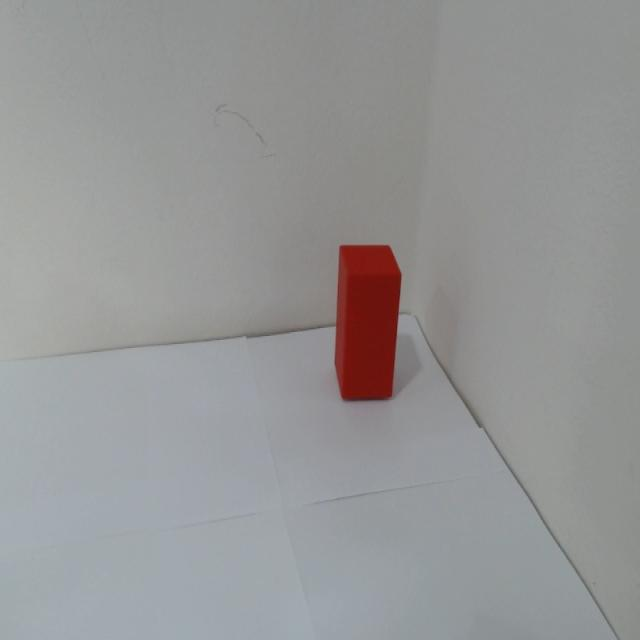cube: (327, 229, 407, 407)
